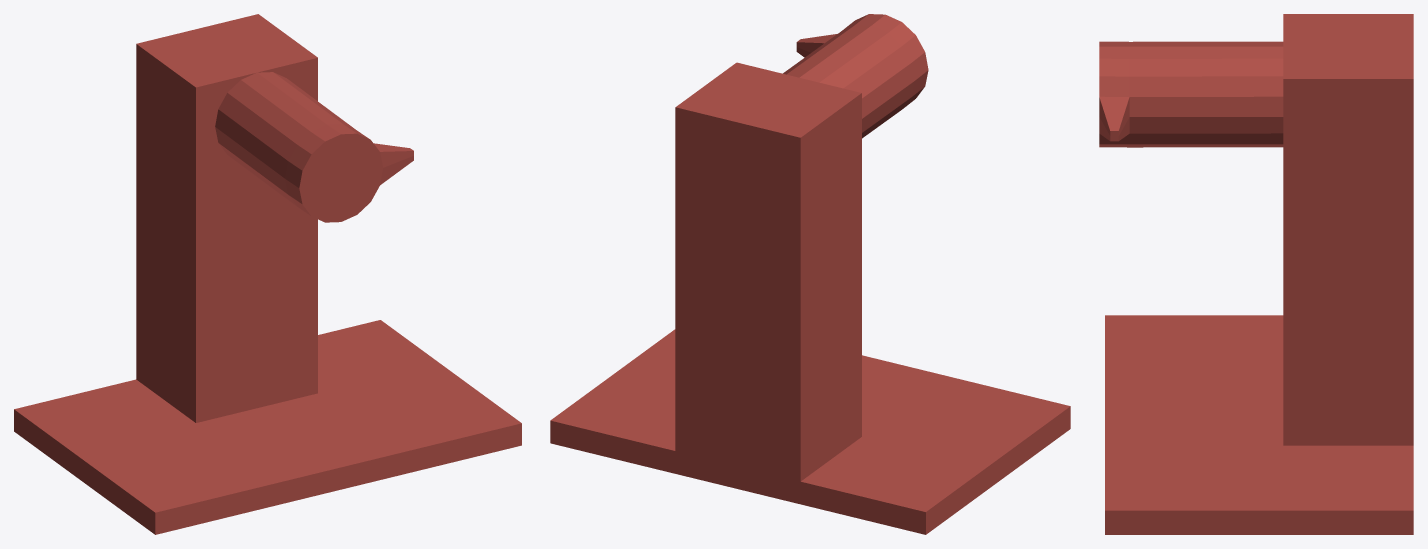
Rendered from WheelBase.fbx.
The picture shows the model from 3 angles, left to right: view 1: azimuth 30°, elevation 25°; view 2: azimuth 150°, elevation 25°; view 3: azimuth 270°, elevation 25°; orthographic projection. The views are drawn at different scales.
Visible parts, largest first — view 1: Salvation Wheel Stand.001; view 2: Salvation Wheel Stand.001; view 3: Salvation Wheel Stand.001.
Part boxes in pixels (<box>): Salvation Wheel Stand.001: <box>14,14,521,534</box>; Salvation Wheel Stand.001: <box>550,14,1070,534</box>; Salvation Wheel Stand.001: <box>1099,14,1413,534</box>.
Bounding box in the file's own units: 274 × 255 × 186.
